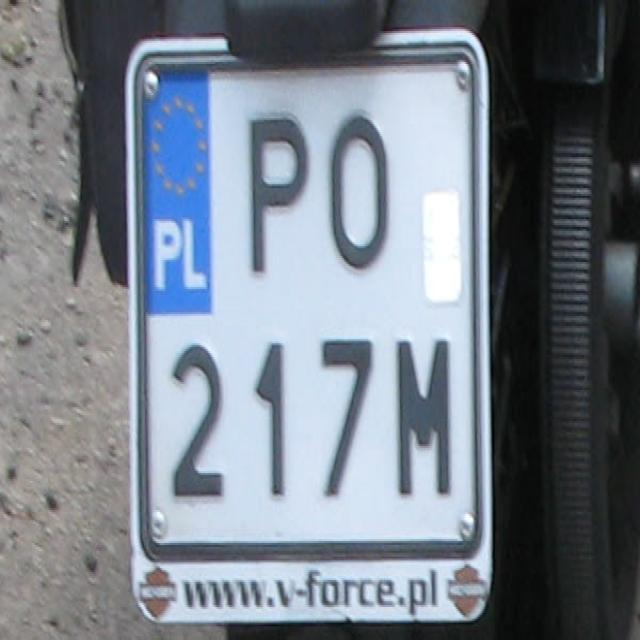pl_license_plate: (138, 68, 474, 537)
